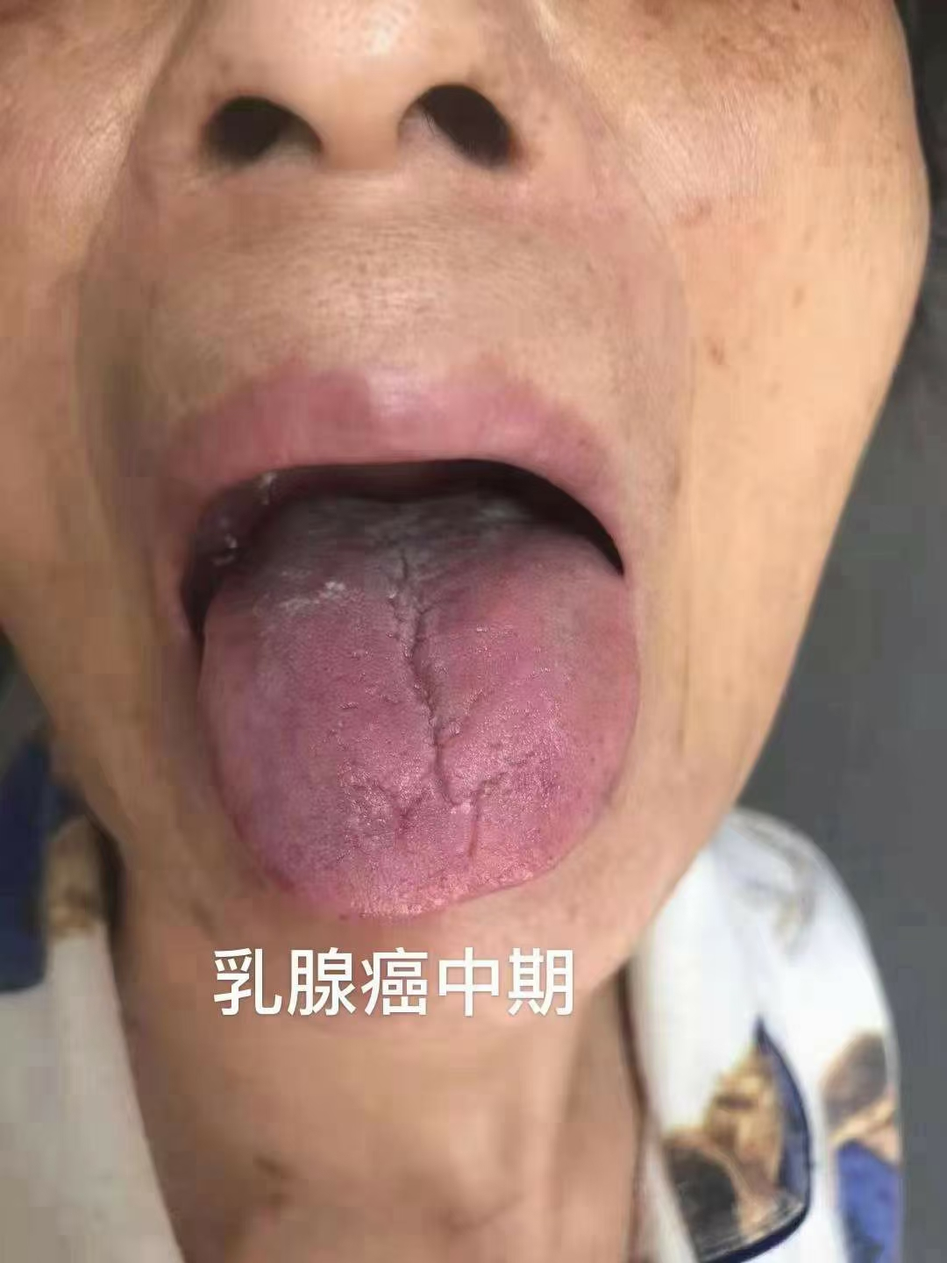baitaishe: (201, 495, 639, 920)
hongshe: (200, 493, 638, 918)
liewenshe: (378, 550, 489, 862)
